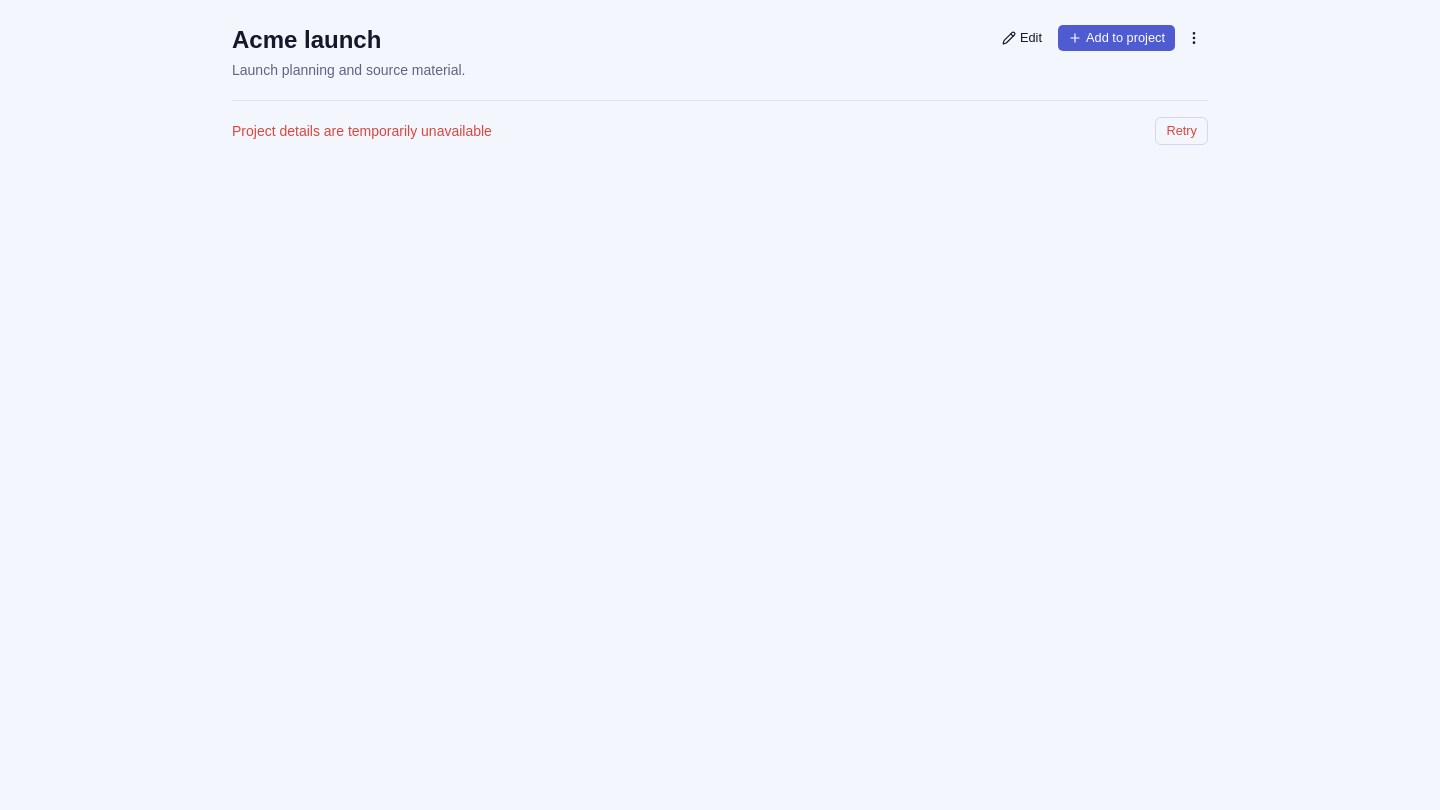
Test: LibraryPanel › offers a retry when the initial aggregate detail request fails
Expected: the message shows "Project details are temporarily unavailable", x1=232 y1=123 x2=492 y2=139
Expected: the number of messages is 1, x1=232 y1=117 x2=1208 y2=145
Step 1. Click the button with aria-label "Retry project details" → [1182, 131], box x1=1155 y1=117 x2=1208 y2=145
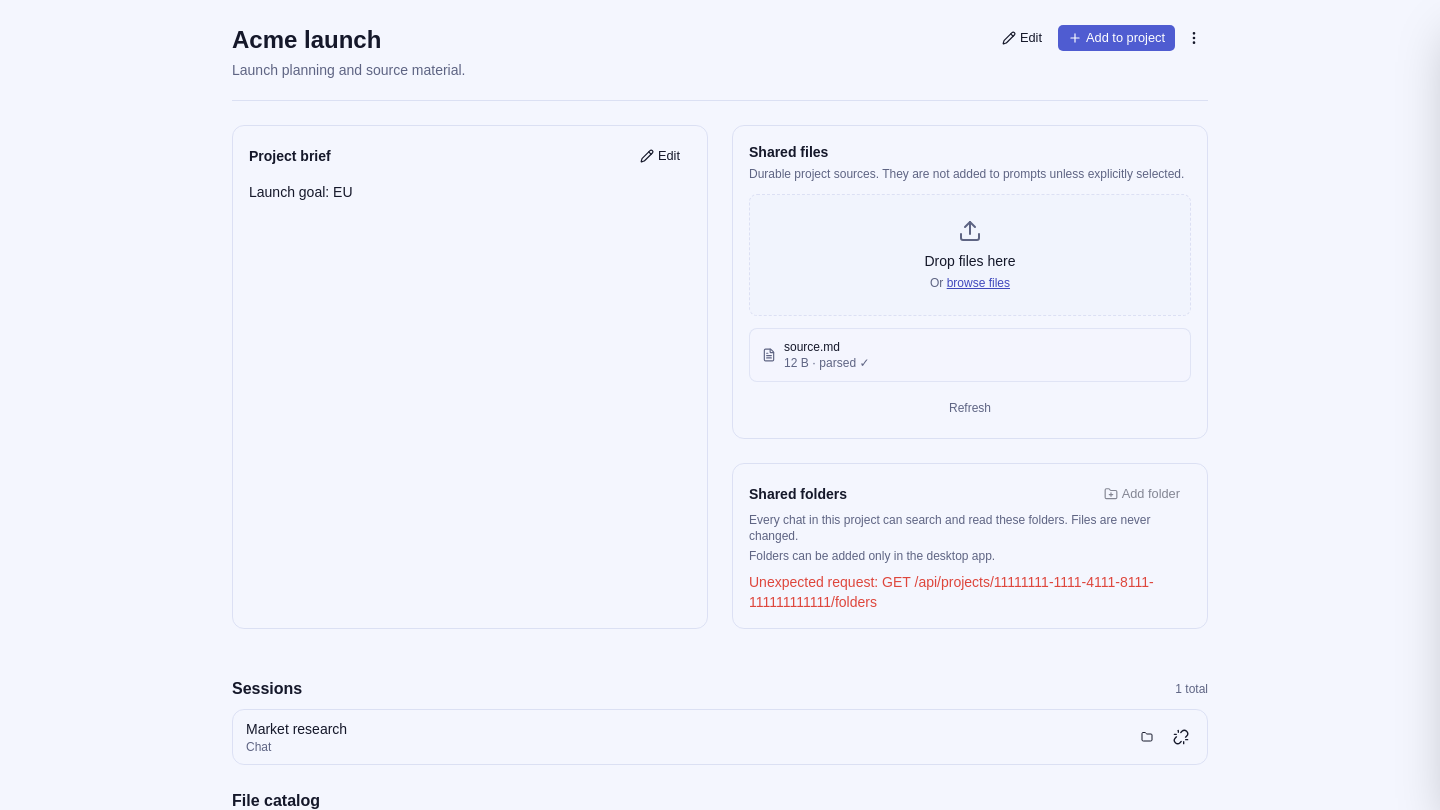
Result: the text "Launch goal: EU" is shown at x1=249 y1=184 x2=352 y2=200
Result: the text "Project details are temporarily unavailable" is gone
